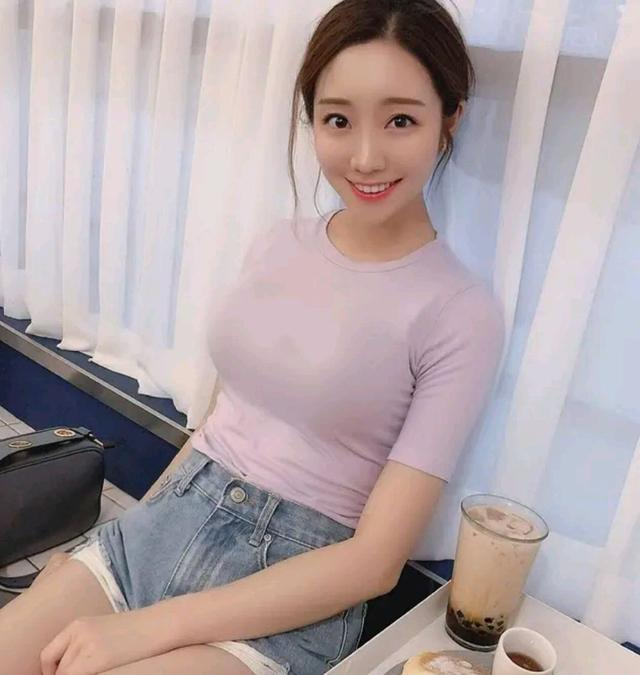person: (219, 7, 494, 658)
